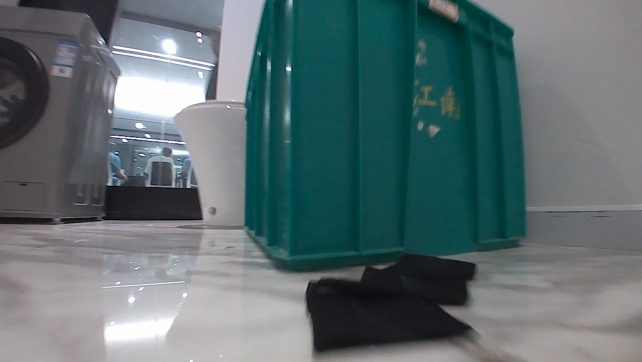socks: (301, 251, 479, 353)
toilet: (171, 98, 249, 229)
washing_machine: (0, 2, 124, 225)
